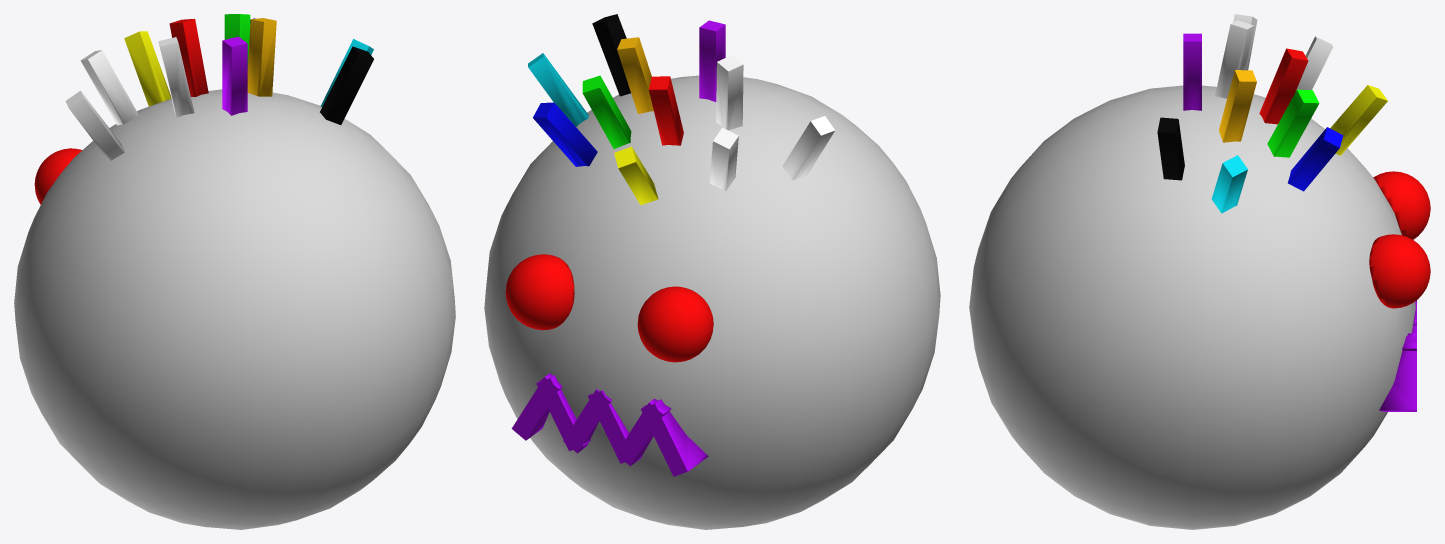
The model's file is monster2.fbx.
3 views of the same model, side by side, from view 1: azimuth 30°, elevation 25°; view 2: azimuth 150°, elevation 25°; view 3: azimuth 270°, elevation 25° (orthographic). The views are drawn at different scales.
Parts seen in each view (by area): view 1: Cube.001; view 2: Cube.001; view 3: Cube.001.
Boxes of the visible parts, x1,y1,x2,y2 form: Cube.001: (14,14,455,529); Cube.001: (484,14,940,529); Cube.001: (969,14,1430,529).
Size of the model in its own units: 600 by 700 by 620.
